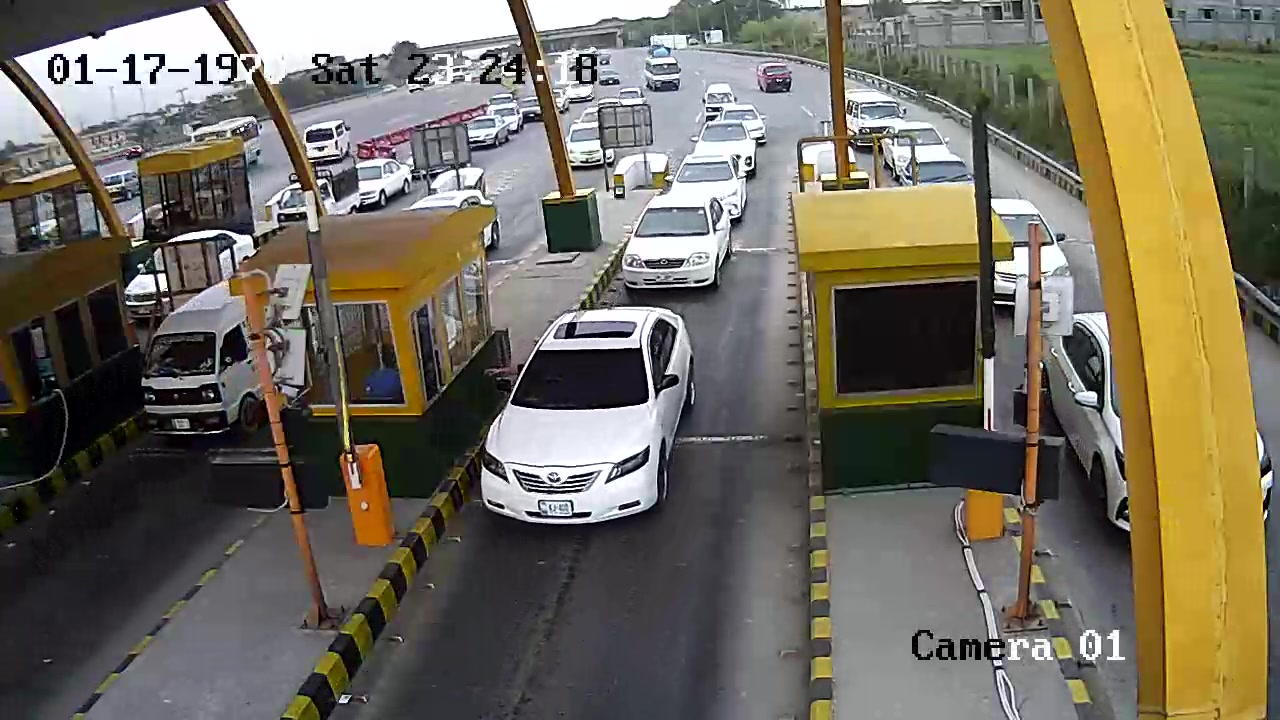F1: (476, 304, 707, 533)
